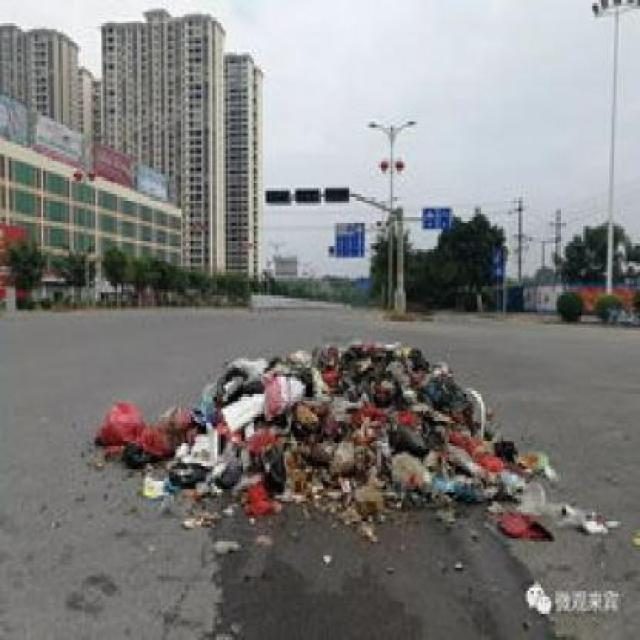garbage: (112, 328, 570, 536)
